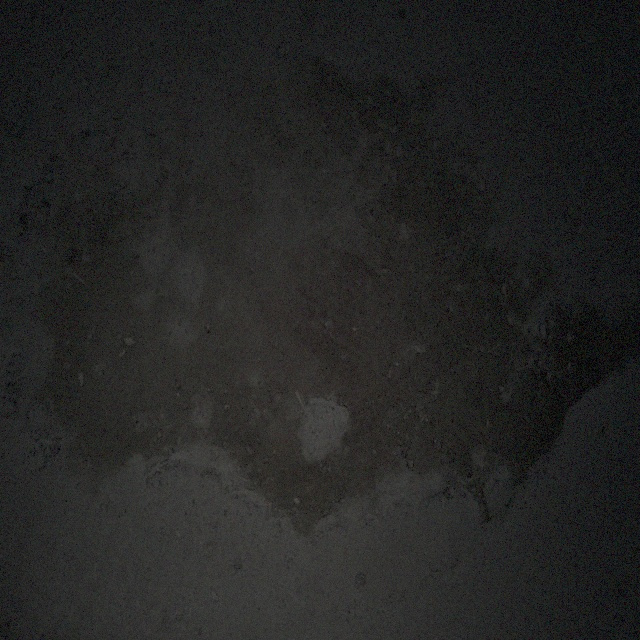pothole: (41, 56, 588, 544)
